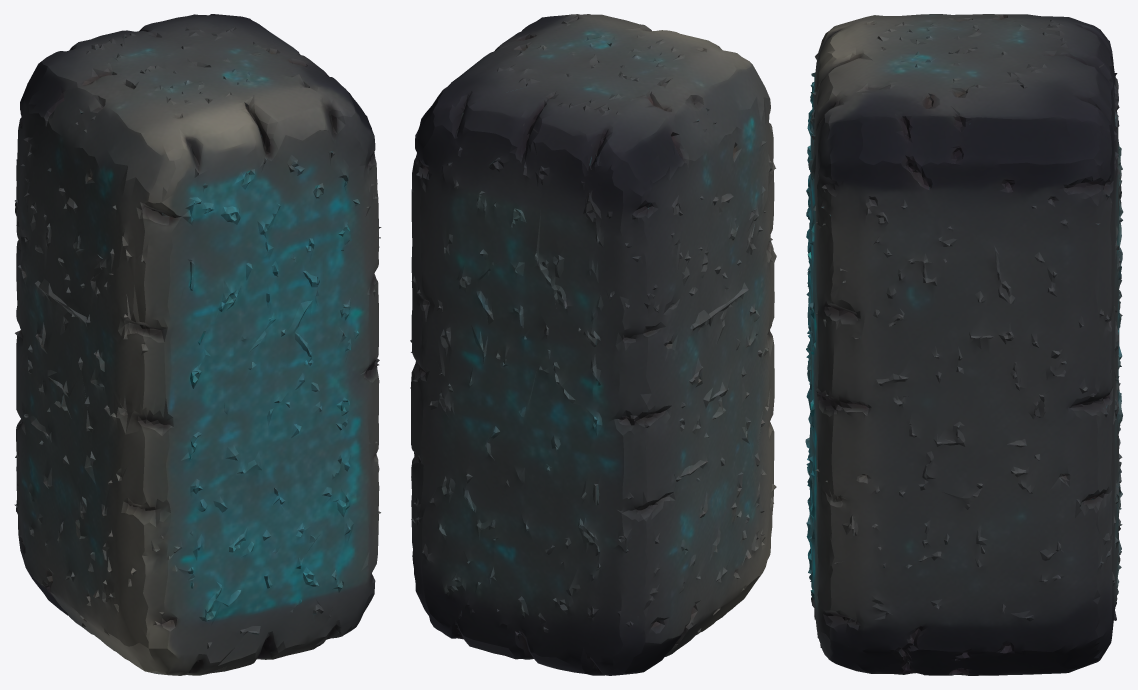
The model's file is Atlantis_GlyphStele.glb.
The picture shows the model from 3 angles, left to right: view 1: azimuth 30°, elevation 25°; view 2: azimuth 150°, elevation 25°; view 3: azimuth 270°, elevation 25°; orthographic projection. The views are drawn at different scales.
Parts seen in each view (by area): view 1: Atlantis_GlyphStele; view 2: Atlantis_GlyphStele; view 3: Atlantis_GlyphStele.
Boxes of the visible parts, box(x1,y1,x2,y2) form: Atlantis_GlyphStele: box(14, 14, 381, 675); Atlantis_GlyphStele: box(410, 14, 776, 675); Atlantis_GlyphStele: box(805, 14, 1123, 675).
Bounding box in the file's own units: 1.14 × 2.3 × 1.12.
1 material, 1 textured.
